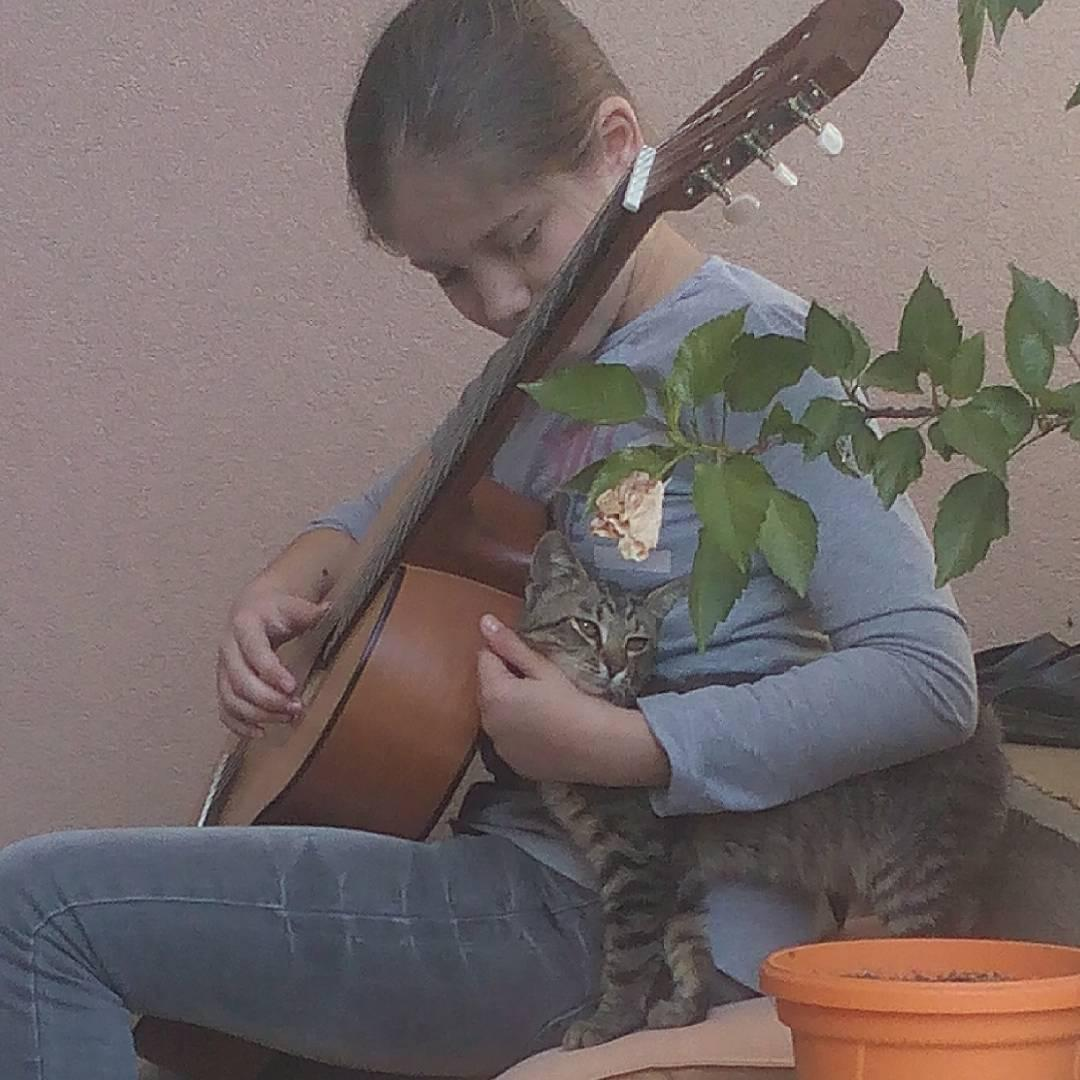macka: (523, 529, 1016, 1048)
